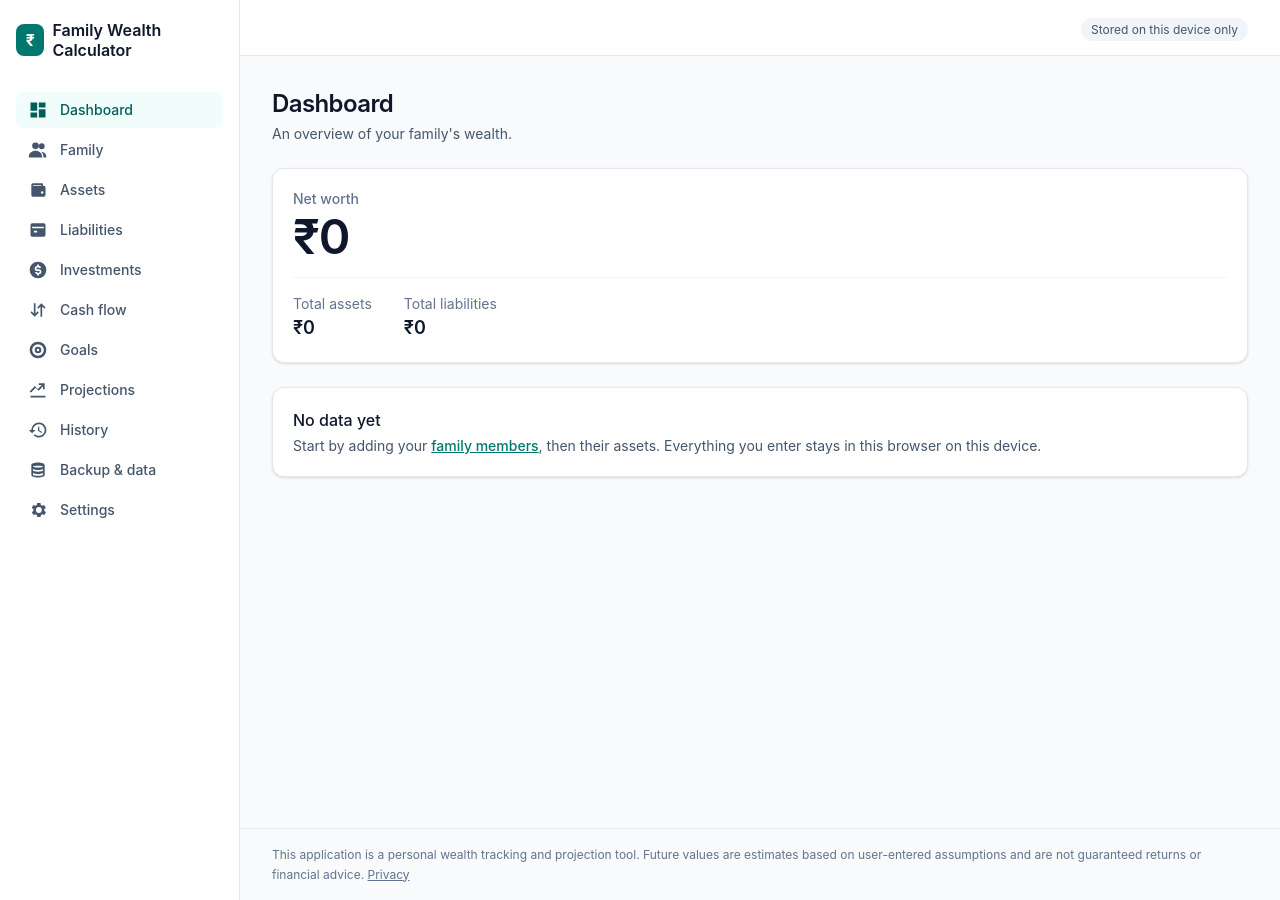
it: App shell › navigates between Dashboard and Settings
Click the link "Settings" at (71, 510), box [28,500,115,520]
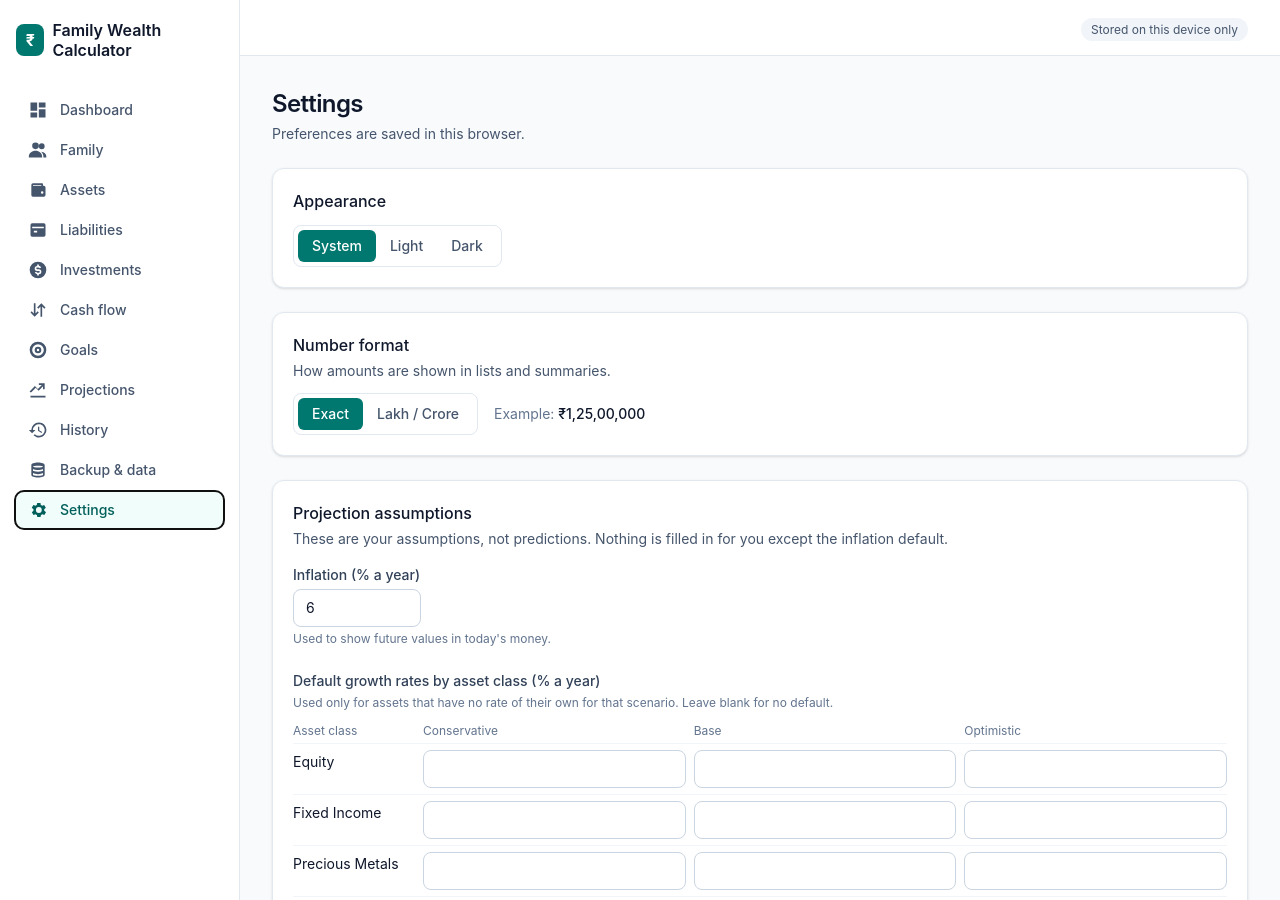
Now the heading "Settings" is shown, box [272,89,363,118]
Click the link "Dashboard" at (80, 110), box [28,100,133,120]
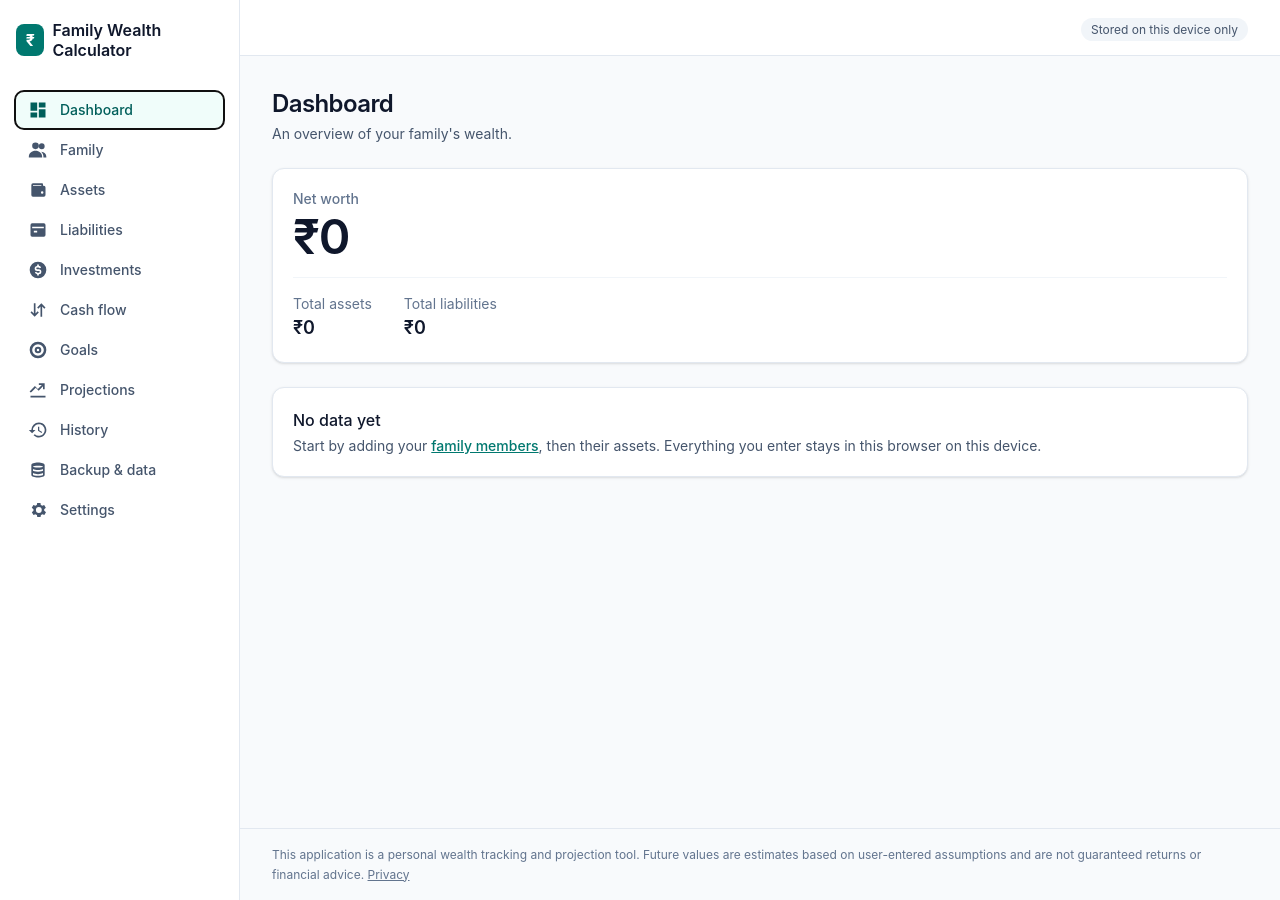
Now the heading "Dashboard" is shown, box [272,89,393,118]
